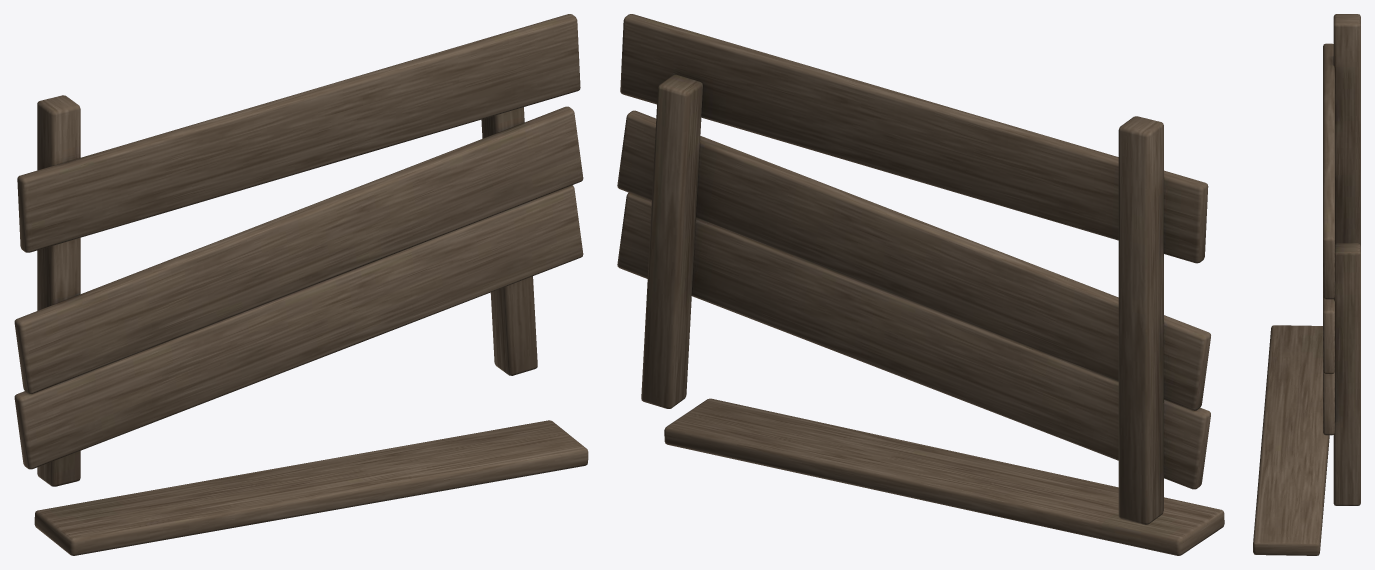
File: home_window_broken.glb
The picture shows the model from 3 angles, left to right: view 1: azimuth 30°, elevation 25°; view 2: azimuth 150°, elevation 25°; view 3: azimuth 270°, elevation 25°; orthographic projection. The views are drawn at different scales.
Parts seen in each view (by area): view 1: home_window_broken; view 2: home_window_broken; view 3: home_window_broken.
Part boxes in pixels (<box>): home_window_broken: <box>14,14,588,555</box>; home_window_broken: <box>617,14,1224,555</box>; home_window_broken: <box>1253,14,1360,555</box>.
Size of the model in its own units: 1.73 by 1.27 by 0.3546.
1 material, 1 textured.
